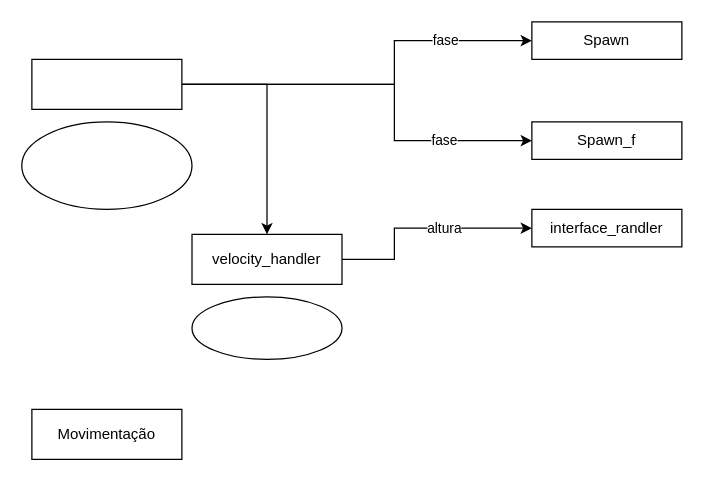
The diagram is 705 pixels wide and 481 high, and some of its shapes have lost their labels. Here are the shapes that lost their labels. From the top down, the centre of each, then its label:
At point (106, 83): "Game manager".
At point (106, 165): "int fase float tempo float tempo_fase".
At point (266, 327): "float velocidade altura atual".
